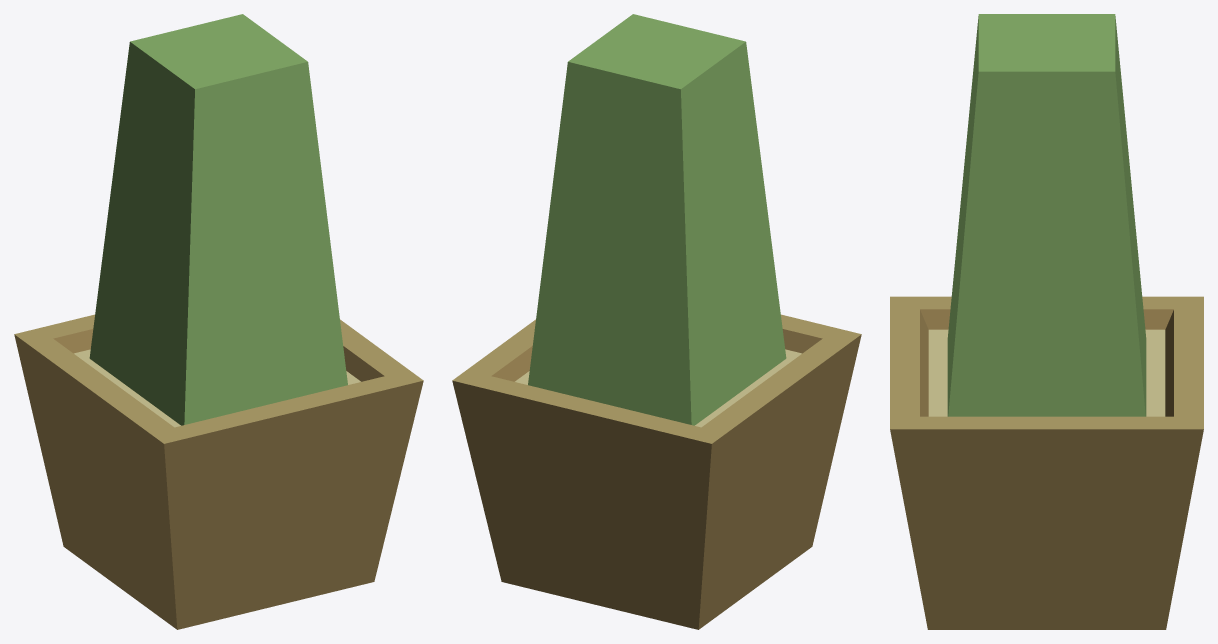
File: vegetation_003.glb
3 renders of one model, left to right at view 1: azimuth 30°, elevation 25°; view 2: azimuth 150°, elevation 25°; view 3: azimuth 270°, elevation 25°, orthographic. The views are drawn at different scales.
Parts seen in each view (by area): view 1: vegetation_003; view 2: vegetation_003; view 3: vegetation_003.
Part boxes in pixels (x1=…): vegetation_003: x1=14, y1=14, x2=423, y2=629; vegetation_003: x1=452, y1=14, x2=861, y2=629; vegetation_003: x1=890, y1=14, x2=1203, y2=629.
Bounding box in the file's own units: 0.7761 × 1.46 × 0.7761.
1 material, 1 textured.
